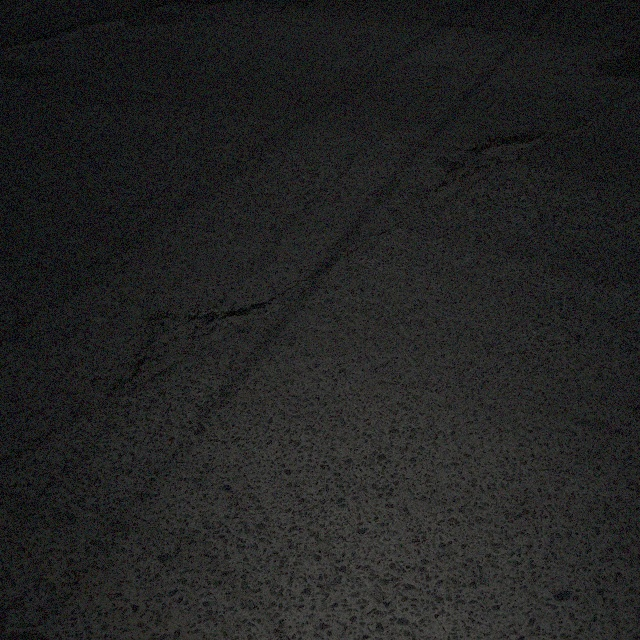pothole: (123, 296, 258, 392), (473, 126, 552, 171), (427, 166, 490, 207)
